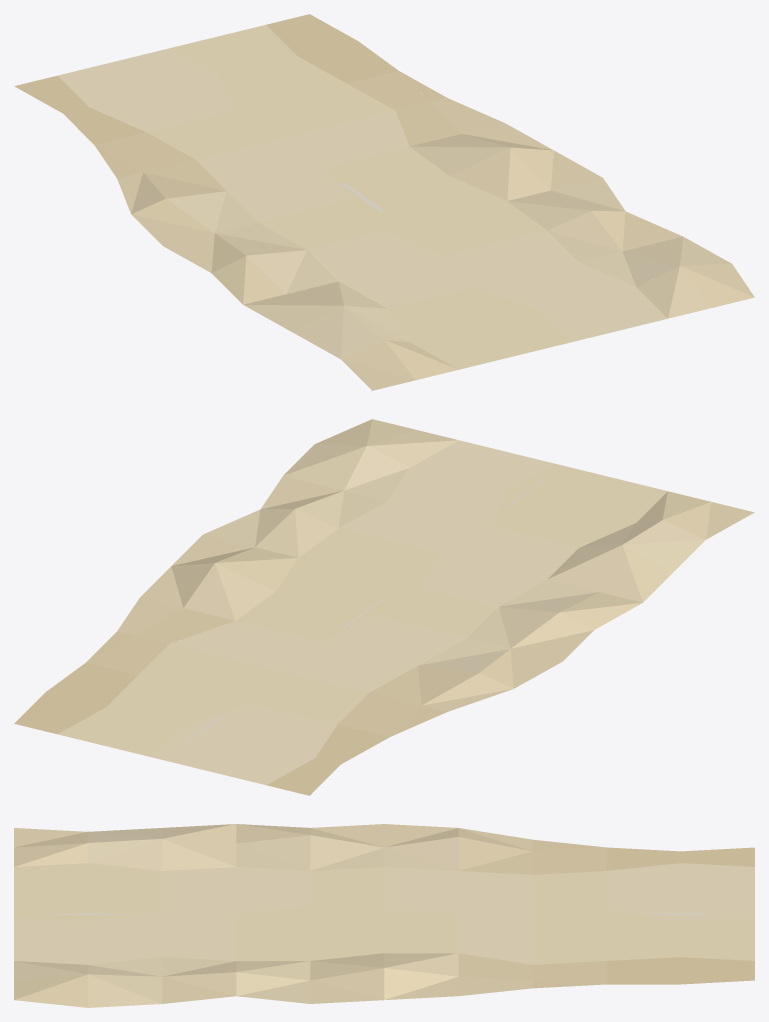
File: drodbb.glb
3 views of the same model, one above another, from view 1: azimuth 30°, elevation 25°; view 2: azimuth 150°, elevation 25°; view 3: azimuth 270°, elevation 25° (orthographic). The views are drawn at different scales.
Parts seen in each view (by area): view 1: drodbb; view 2: drodbb; view 3: drodbb.
Boxes of the visible parts, x1,y1,x2,y2 form: drodbb: (14,14,754,390); drodbb: (14,419,754,795); drodbb: (14,824,754,1007).
Size of the model in its own units: 32.9 by 1.05 by 56.
